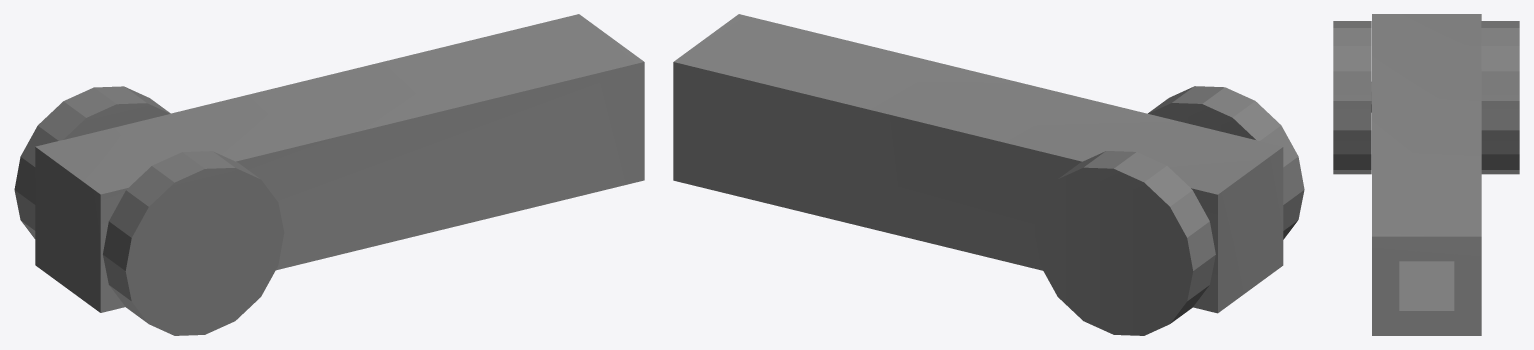
File: harpoon_3.fbx
The picture shows the model from 3 angles, left to right: view 1: azimuth 30°, elevation 25°; view 2: azimuth 150°, elevation 25°; view 3: azimuth 270°, elevation 25°; orthographic projection. The views are drawn at different scales.
Visible parts, largest first — view 1: Cylinder.004; view 2: Cylinder.004; view 3: Cylinder.004.
Boxes of the visible parts, x1,y1,x2,y2 form: Cylinder.004: (14, 14, 644, 335); Cylinder.004: (673, 14, 1304, 335); Cylinder.004: (1333, 14, 1519, 335).
Bounding box in the file's own units: 96 × 28 × 34.01.
